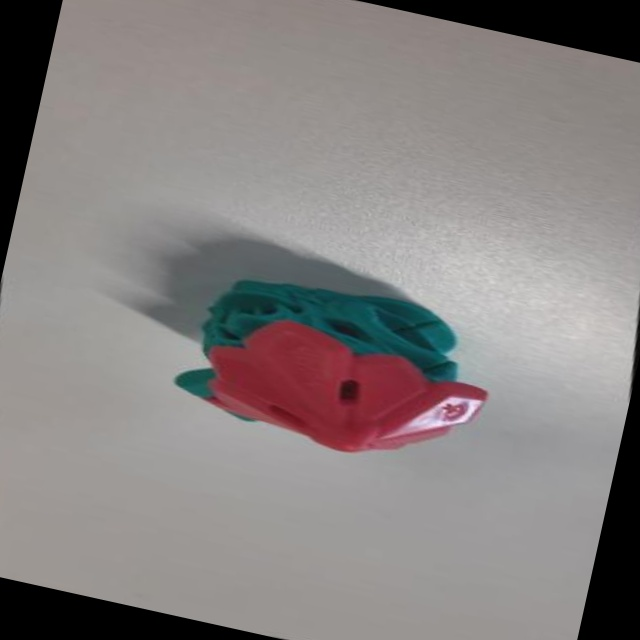House: (143, 232, 529, 492)
